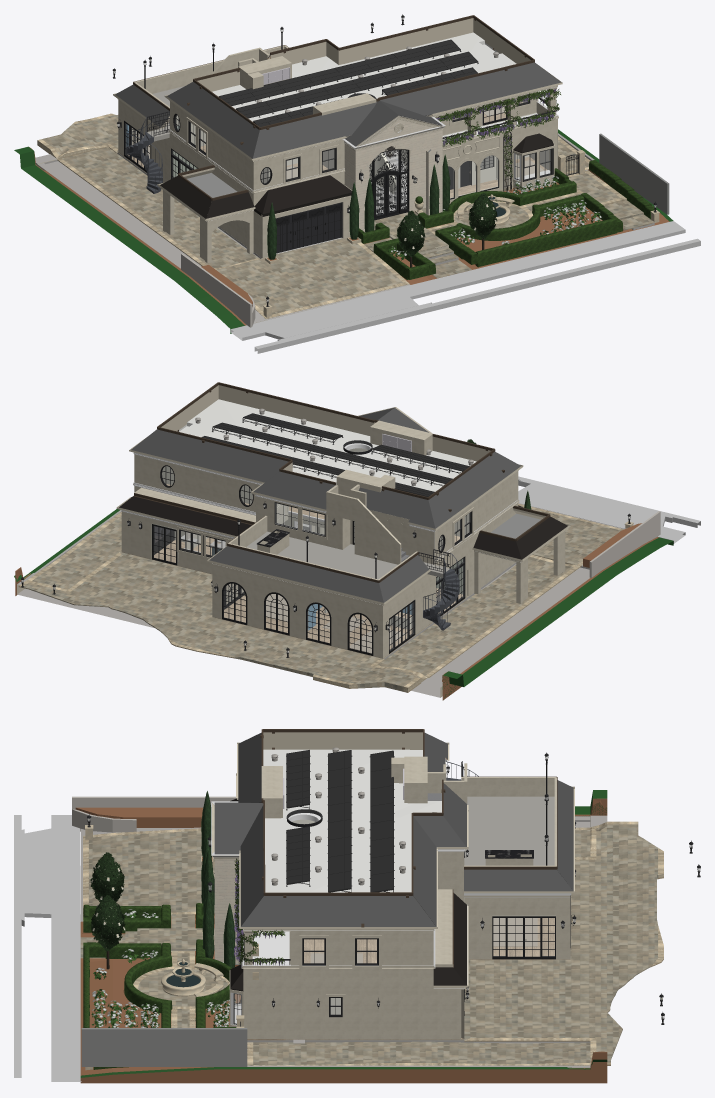
Rendered from exterior-house-c8226084d684.glb.
The picture shows the model from 3 angles, top to bottom: view 1: azimuth 30°, elevation 25°; view 2: azimuth 150°, elevation 25°; view 3: azimuth 270°, elevation 25°; orthographic projection. The views are drawn at different scales.
Visible parts, largest first — view 1: exterior-house-2097c6bf0b01330b, exterior-house-b5dfe7249a3eb059, exterior-house-e7e6fa835f441169, exterior-house-27d577fbd7f2ff4b, exterior-house-aee2d046b0172b1e, exterior-house-772a07b3069847f0, exterior-house-e33d7b378dc851e2, exterior-house-d56ee2a9d54b1fc2, exterior-house-8ae50a6395ceb8a4, exterior-house-0b9d5d1cd0b2c60f, exterior-house-7cf8e5cfa8b264af, exterior-house-25c3ff3929e46046 (+45 smaller); view 2: exterior-house-37d1b262fca80116, exterior-house-d56ee2a9d54b1fc2, exterior-house-27d577fbd7f2ff4b, exterior-house-8ae50a6395ceb8a4, exterior-house-969b861f9850351e, exterior-house-aee2d046b0172b1e, exterior-house-c91f911e25c8cae7, exterior-house-5febae1537653d02, exterior-house-3763e2fb8578d282, exterior-house-b5dfe7249a3eb059, exterior-house-2c1fd33d433632d0, exterior-house-0cae3eb2f2d52fad (+38 smaller); view 3: exterior-house-37d1b262fca80116, exterior-house-aee2d046b0172b1e, exterior-house-b5dfe7249a3eb059, exterior-house-d56ee2a9d54b1fc2, exterior-house-2c1fd33d433632d0, exterior-house-2097c6bf0b01330b, exterior-house-07f5bde4319b7ab4, exterior-house-e7e6fa835f441169, exterior-house-a75a0c9c223328ee, exterior-house-ded88bd99590d377, exterior-house-af97eba351c411ae, exterior-house-e706aa16b4547c37 (+54 smaller).
Part boxes in pixels (x1,y1,x2,y2): exterior-house-2097c6bf0b01330b: (216, 237, 409, 318); exterior-house-b5dfe7249a3eb059: (230, 221, 685, 340); exterior-house-e7e6fa835f441169: (358, 181, 616, 279); exterior-house-27d577fbd7f2ff4b: (57, 147, 260, 269); exterior-house-aee2d046b0172b1e: (14, 129, 673, 333); exterior-house-772a07b3069847f0: (254, 238, 700, 353); exterior-house-e33d7b378dc851e2: (380, 62, 560, 115); exterior-house-d56ee2a9d54b1fc2: (212, 32, 516, 121); exterior-house-8ae50a6395ceb8a4: (35, 133, 594, 323); exterior-house-0b9d5d1cd0b2c60f: (236, 51, 478, 118); exterior-house-7cf8e5cfa8b264af: (218, 39, 461, 105); exterior-house-25c3ff3929e46046: (253, 101, 377, 158); exterior-house-37d1b262fca80116: (18, 552, 427, 692); exterior-house-d56ee2a9d54b1fc2: (181, 399, 476, 491); exterior-house-27d577fbd7f2ff4b: (377, 555, 580, 677); exterior-house-8ae50a6395ceb8a4: (17, 503, 624, 697); exterior-house-969b861f9850351e: (212, 566, 380, 657); exterior-house-aee2d046b0172b1e: (14, 509, 673, 700); exterior-house-c91f911e25c8cae7: (131, 429, 288, 482); exterior-house-5febae1537653d02: (209, 546, 383, 602); exterior-house-3763e2fb8578d282: (134, 454, 259, 512); exterior-house-b5dfe7249a3eb059: (518, 484, 685, 543); exterior-house-2c1fd33d433632d0: (28, 512, 121, 589); exterior-house-0cae3eb2f2d52fad: (428, 451, 520, 528); exterior-house-37d1b262fca80116: (464, 821, 663, 1065); exterior-house-aee2d046b0172b1e: (80, 790, 607, 1083); exterior-house-b5dfe7249a3eb059: (24, 815, 81, 1081); exterior-house-d56ee2a9d54b1fc2: (263, 749, 441, 892); exterior-house-2c1fd33d433632d0: (247, 1041, 590, 1065); exterior-house-2097c6bf0b01330b: (83, 828, 214, 921); exterior-house-07f5bde4319b7ab4: (81, 1028, 247, 1066); exterior-house-e7e6fa835f441169: (83, 903, 231, 1027); exterior-house-a75a0c9c223328ee: (241, 896, 436, 926); exterior-house-ded88bd99590d377: (464, 796, 554, 865); exterior-house-af97eba351c411ae: (372, 979, 461, 1038); exterior-house-e706aa16b4547c37: (464, 897, 567, 959).
Bounding box in the file's own units: 31.9 × 8.68 × 35.2.
Materials: 112 (31 with a texture image).
